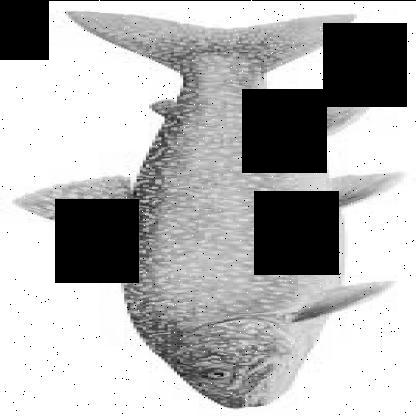fish: (14, 9, 408, 410)
